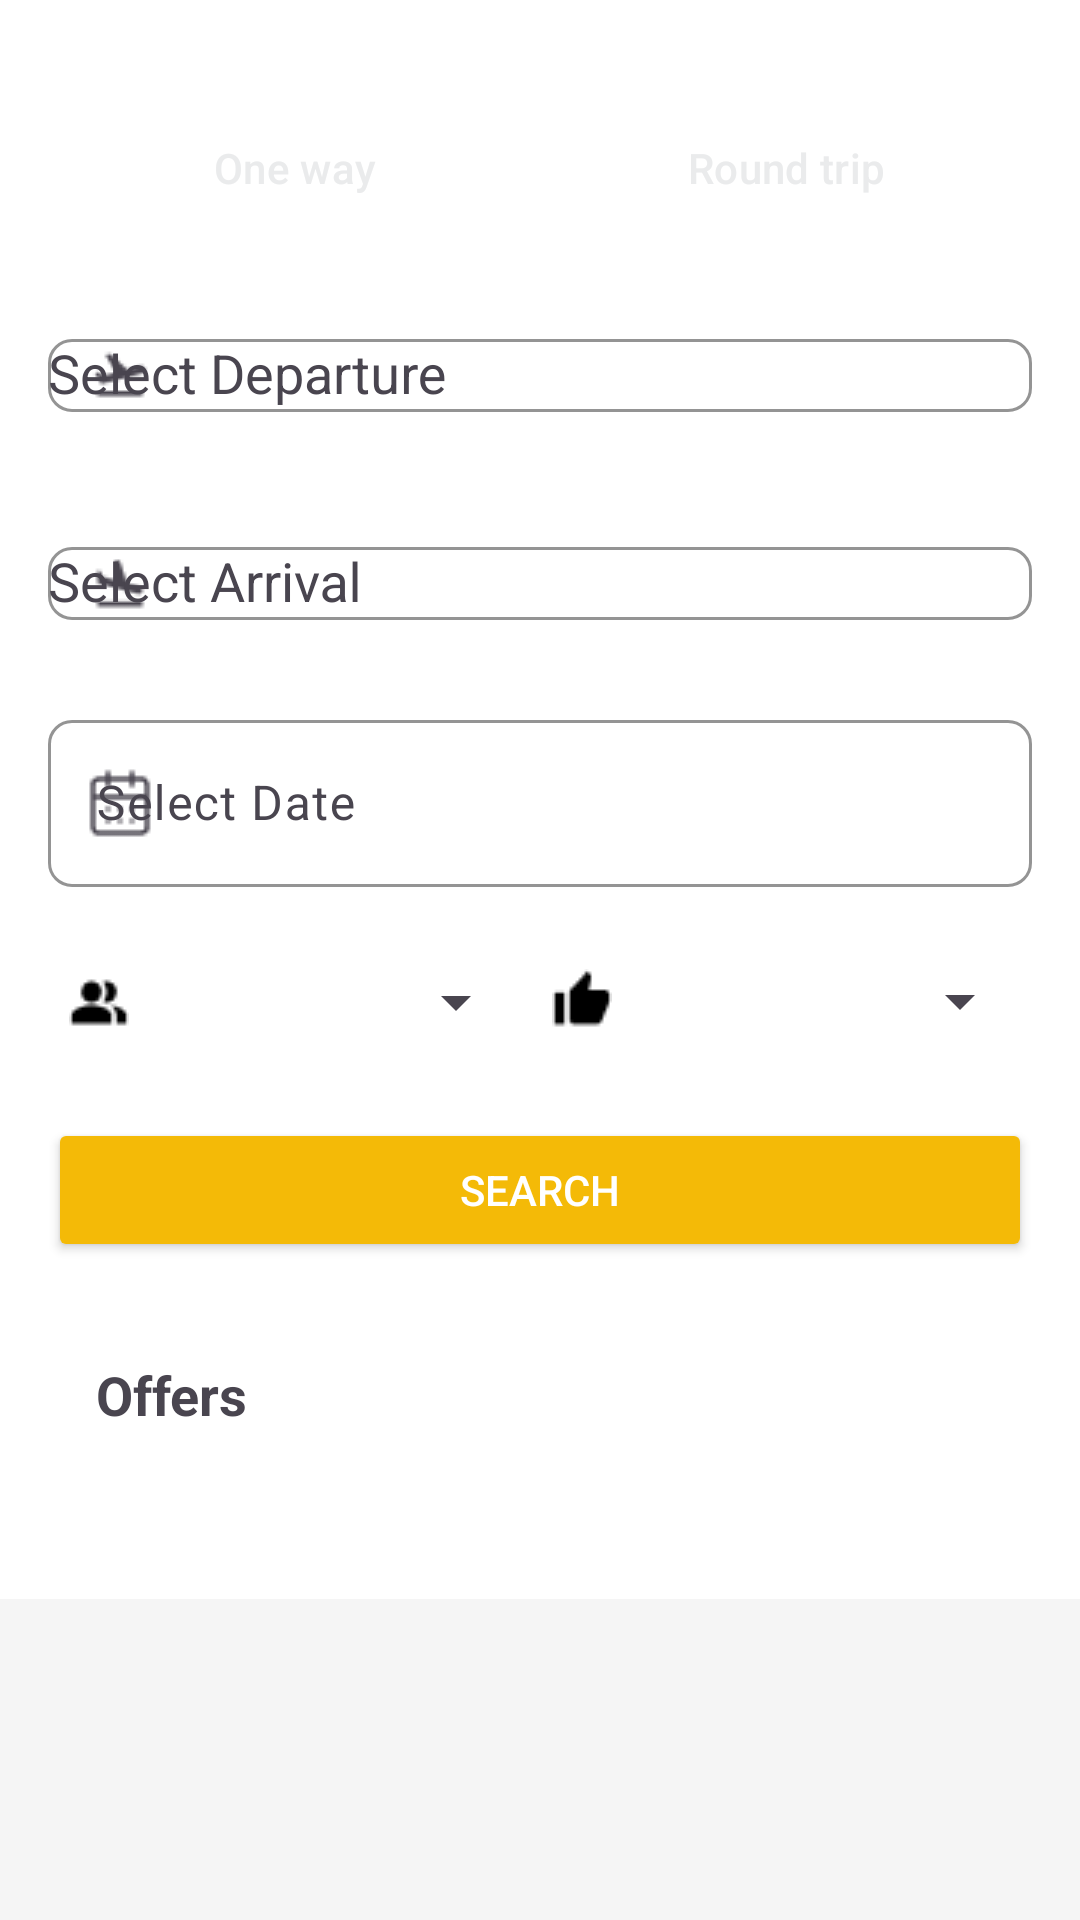

Icon bounding boxes for this 1080*1920 phone screenshot, format (x1=x1, y1=y1, x2=x2, y2=y2):
passengers: (x1=69, y1=979, x2=129, y2=1026)
